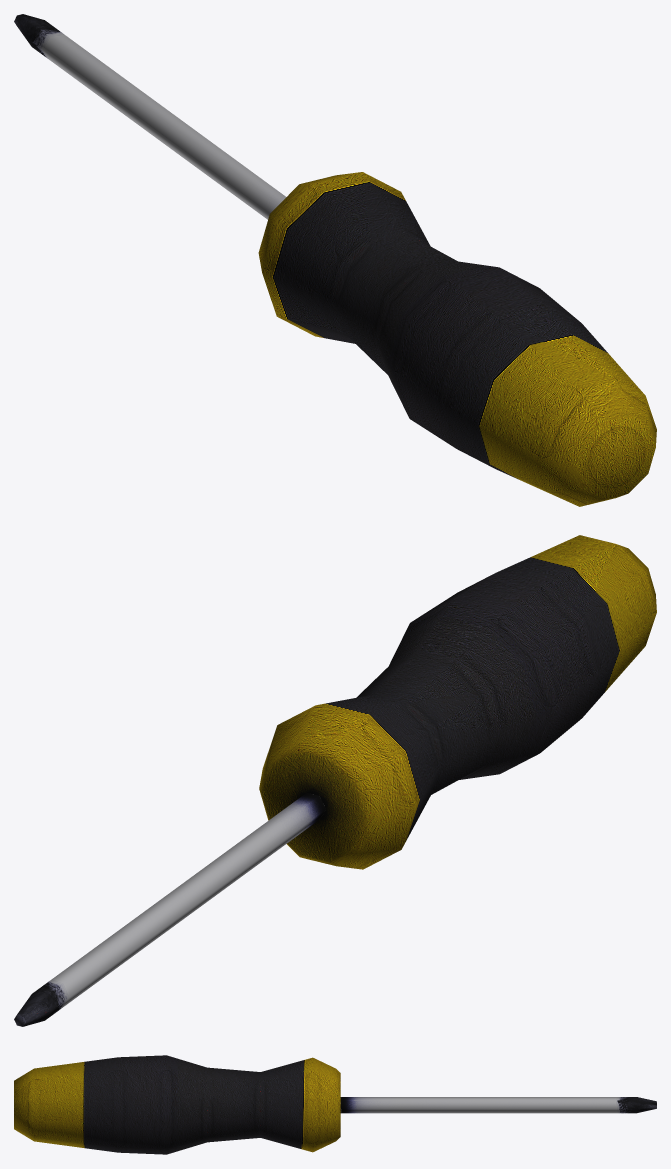
The model's file is Screwdriver.FBX.
The picture shows the model from 3 angles, top to bottom: view 1: azimuth 30°, elevation 25°; view 2: azimuth 150°, elevation 25°; view 3: azimuth 270°, elevation 25°; orthographic projection. The views are drawn at different scales.
Visible parts, largest first — view 1: Screwdriver; view 2: Screwdriver; view 3: Screwdriver.
Boxes of the visible parts, box(x1,y1,x2,y2) form: Screwdriver: box(14, 14, 656, 506); Screwdriver: box(14, 535, 656, 1026); Screwdriver: box(14, 1055, 656, 1154).
Size of the model in its own units: 7.56 by 7.19 by 48.57.
